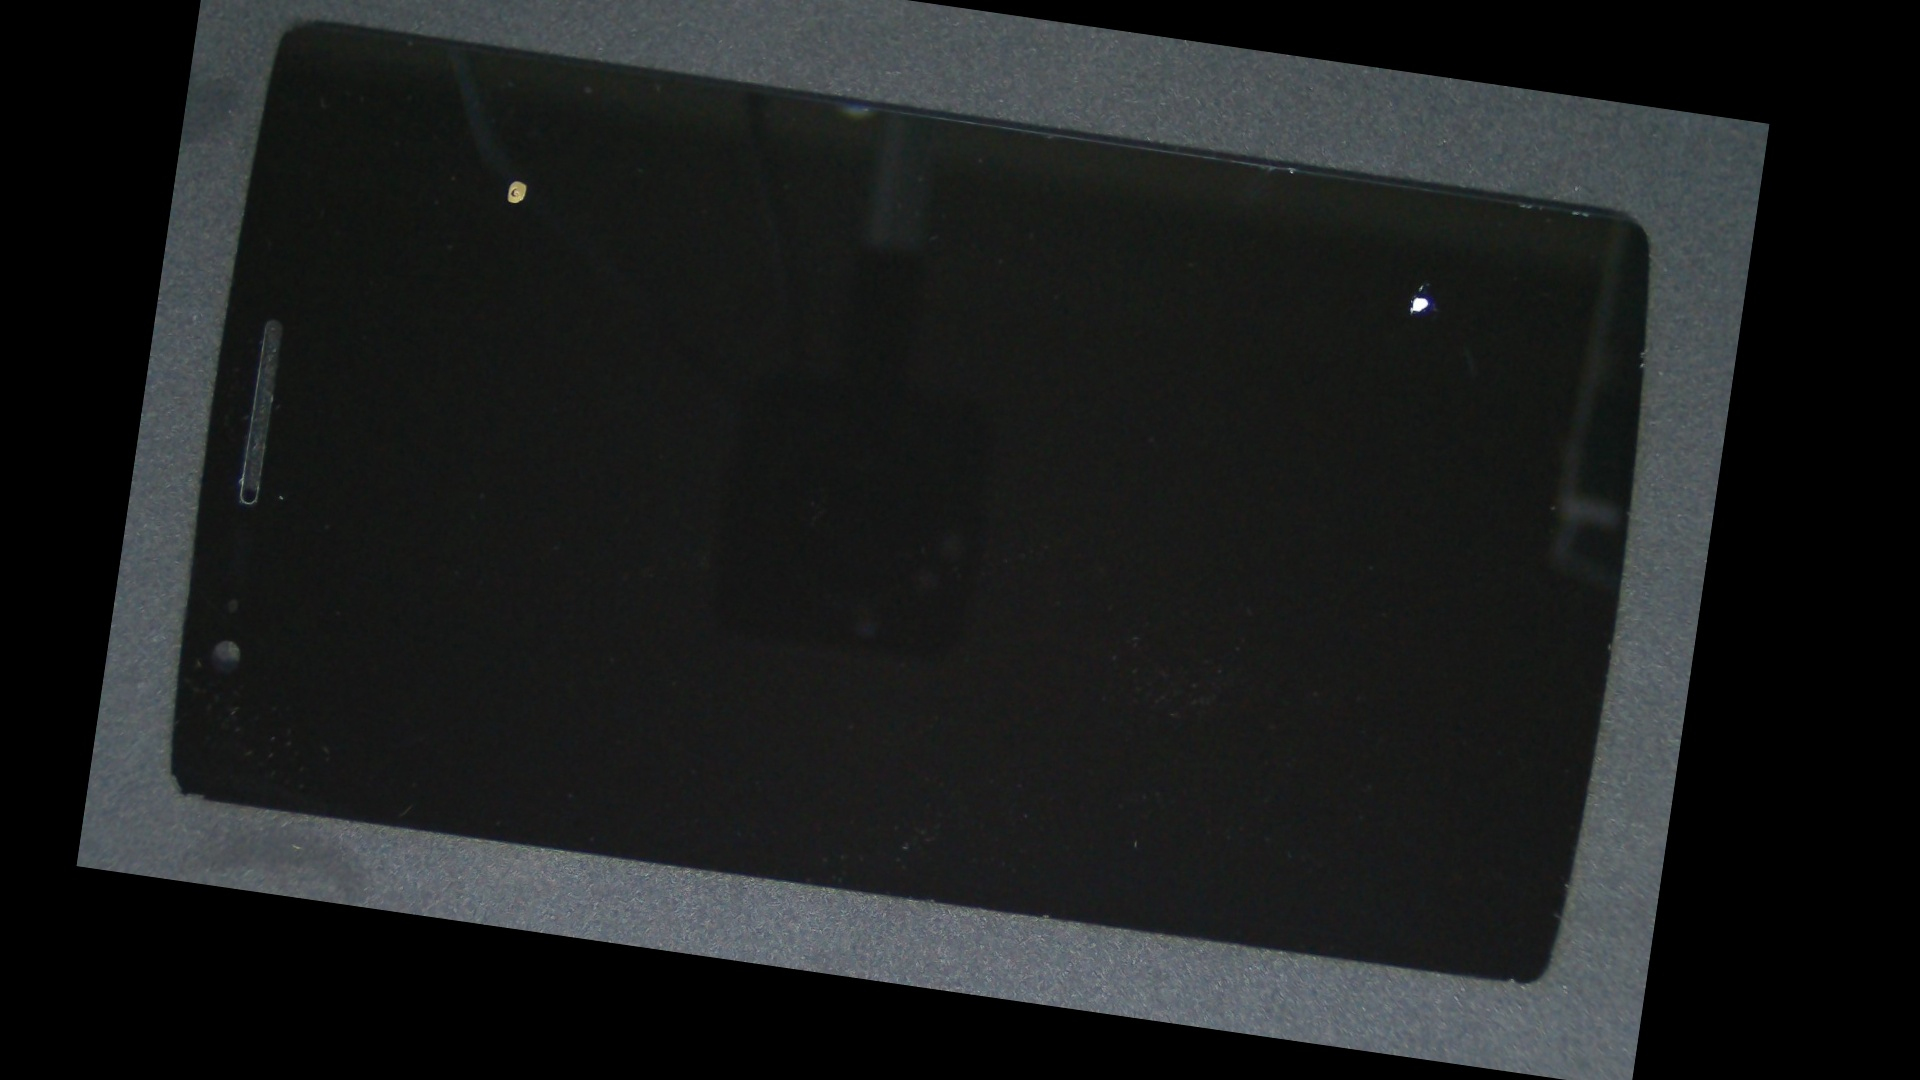oil: (783, 98, 1754, 451), (793, 91, 1755, 430), (332, 40, 700, 319)
